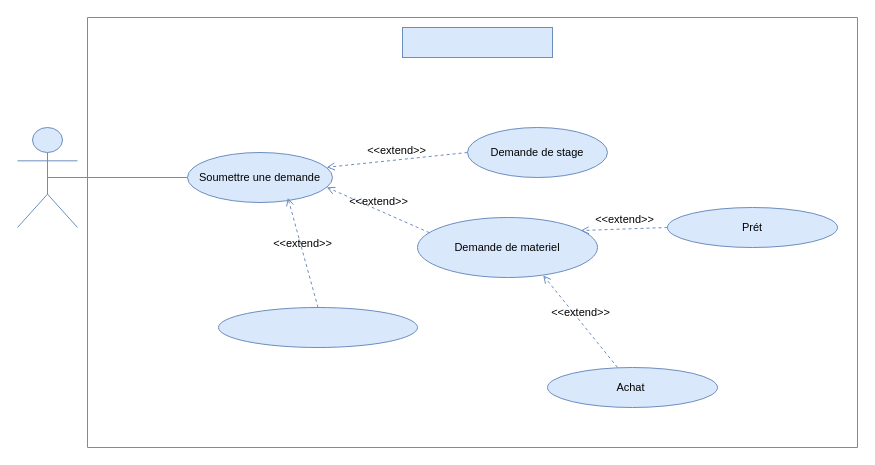
This 875x465 diagram has some shape labels left out. The shapes that lost their labels are listed below. From the top down, each one's centre as x and y in pixels, then its label:
At pixel 477 42: "Cas spécifique Doctorant".
At pixel 47 177: "Doctorant".
At pixel 318 327: "Demande d'inscription d'un Article".
